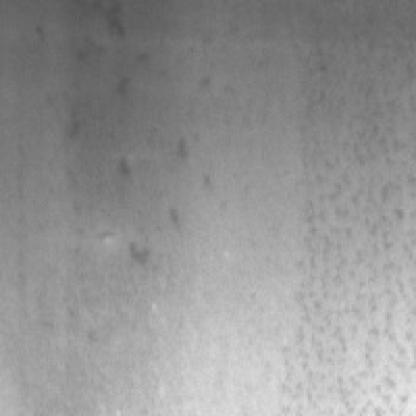pitted_surface: (283, 0, 414, 414), (25, 0, 214, 275)
